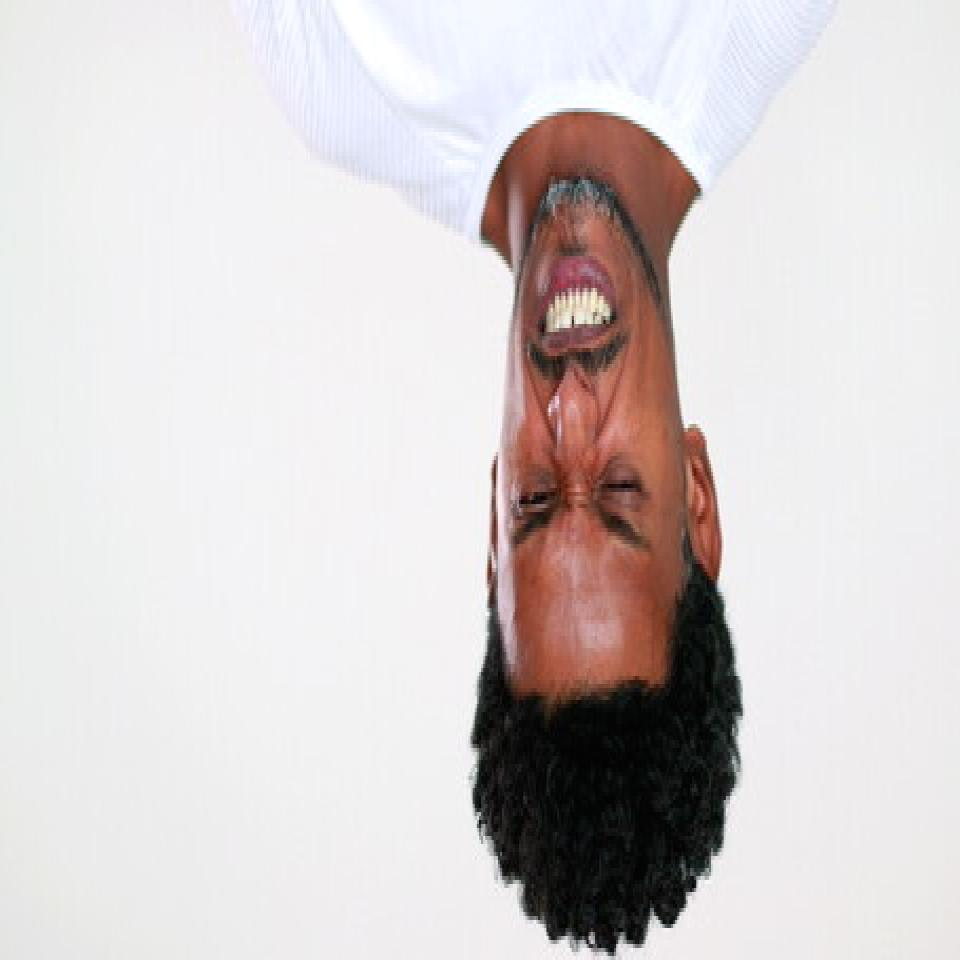Disgust: (499, 208, 682, 660)
